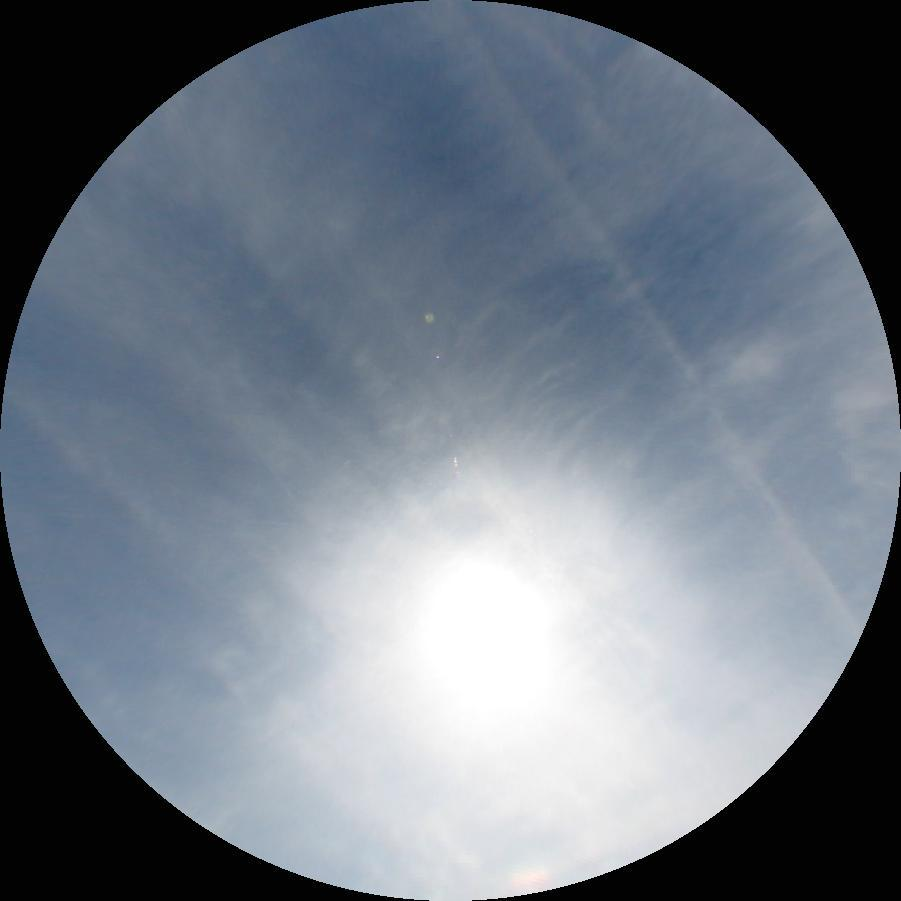contrail veryold: (409, 0, 868, 661)
sun: (415, 557, 552, 702)
